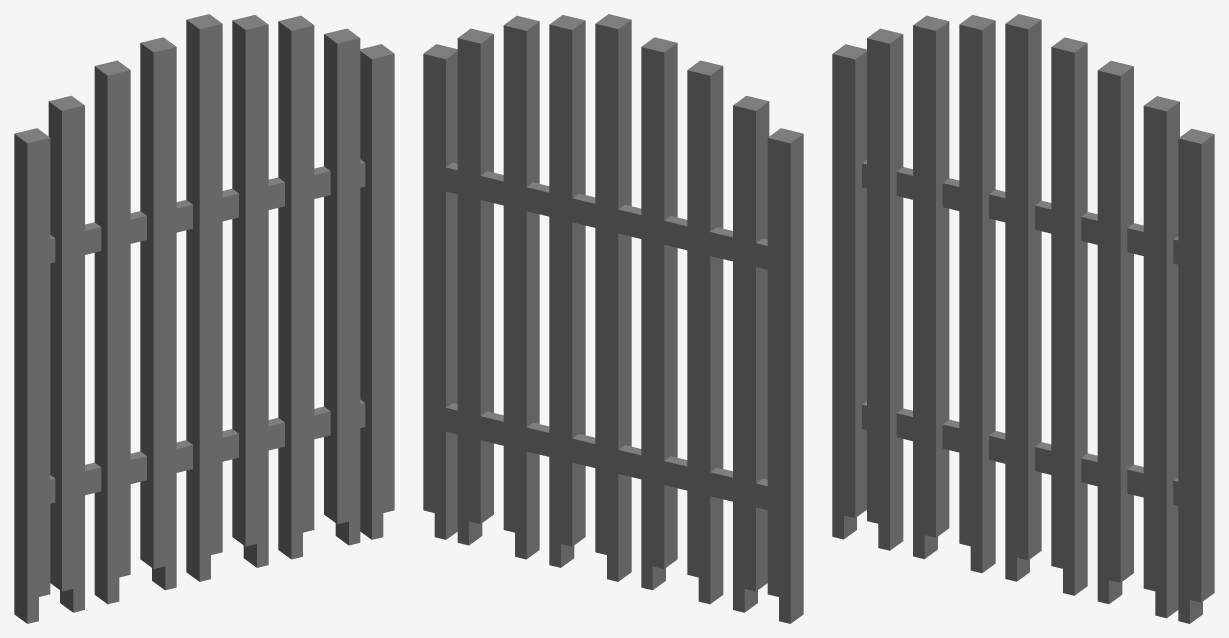
Rendered from Wall_Entrance_Door.glb.
3 views of the same model, side by side, from view 1: azimuth 30°, elevation 25°; view 2: azimuth 150°, elevation 25°; view 3: azimuth 330°, elevation 25° (orthographic).
Visible parts, largest first — view 1: Wall_Entrance_Door; view 2: Wall_Entrance_Door; view 3: Wall_Entrance_Door.
Boxes of the visible parts, box(x1,y1,x2,y2) form: Wall_Entrance_Door: box(14, 14, 394, 623); Wall_Entrance_Door: box(423, 14, 803, 623); Wall_Entrance_Door: box(832, 14, 1214, 623).
Size of the model in its own units: 3.2 by 4.6 by 0.2.
Materials: 1 (1 with a texture image).
